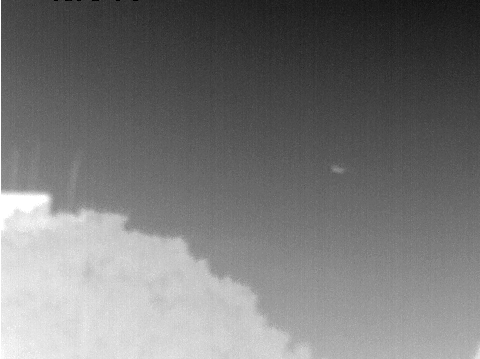dim target: (328, 164, 346, 174)
